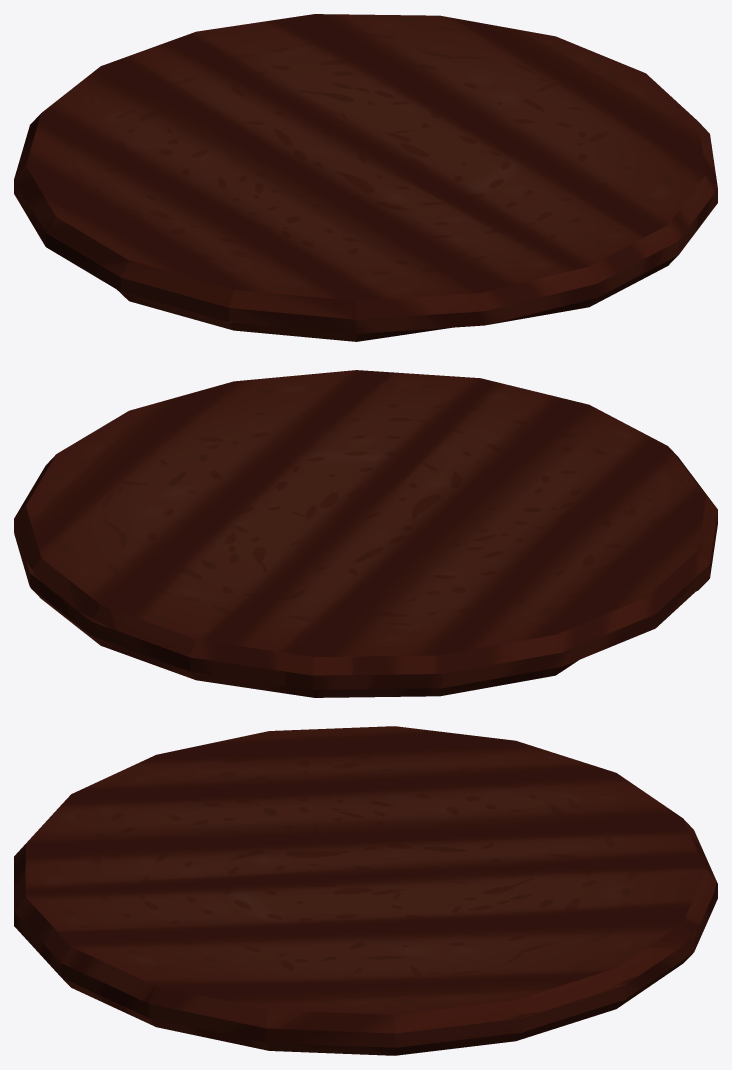
File: hamburguinho queimadinho.dae
3 renders of one model, top to bottom at view 1: azimuth 30°, elevation 25°; view 2: azimuth 150°, elevation 25°; view 3: azimuth 270°, elevation 25°, orthographic.
Parts seen in each view (by area): view 1: Circle; view 2: Circle; view 3: Circle.
Part boxes in pixels (bbox=[...]): Circle: bbox=[14, 14, 717, 341]; Circle: bbox=[14, 370, 717, 697]; Circle: bbox=[14, 726, 717, 1055].
Size of the model in its own units: 2.06 by 2.05 by 0.1318.
1 material, 1 textured.
